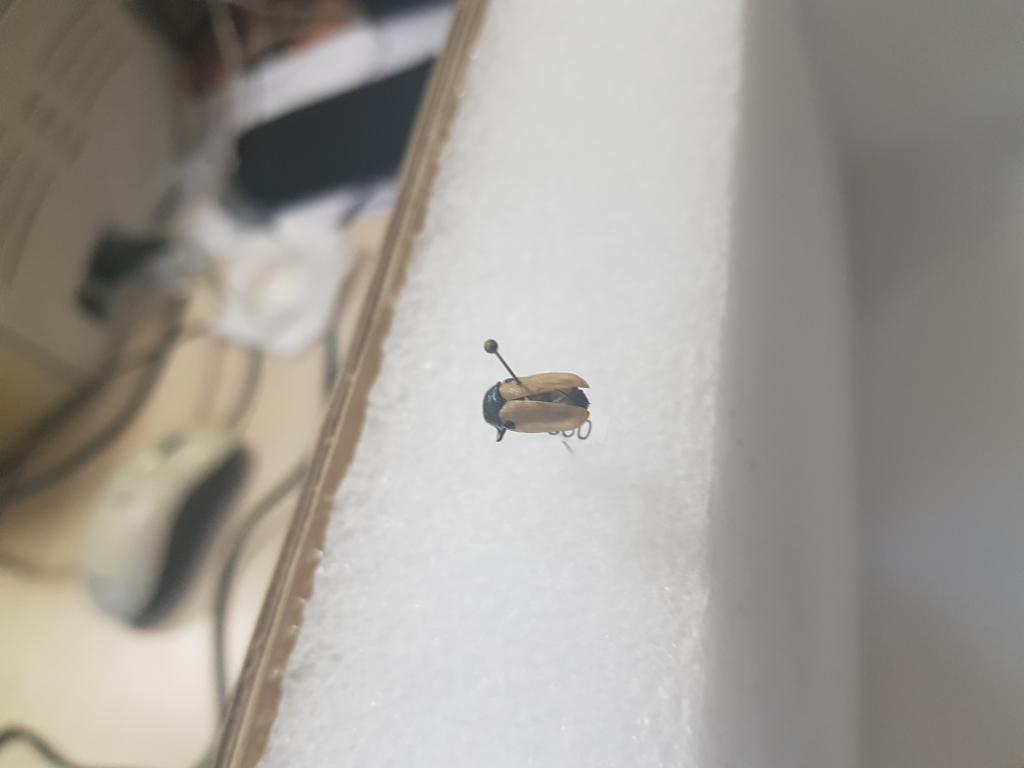Labidostomis_asiatica: (480, 370, 595, 450)
